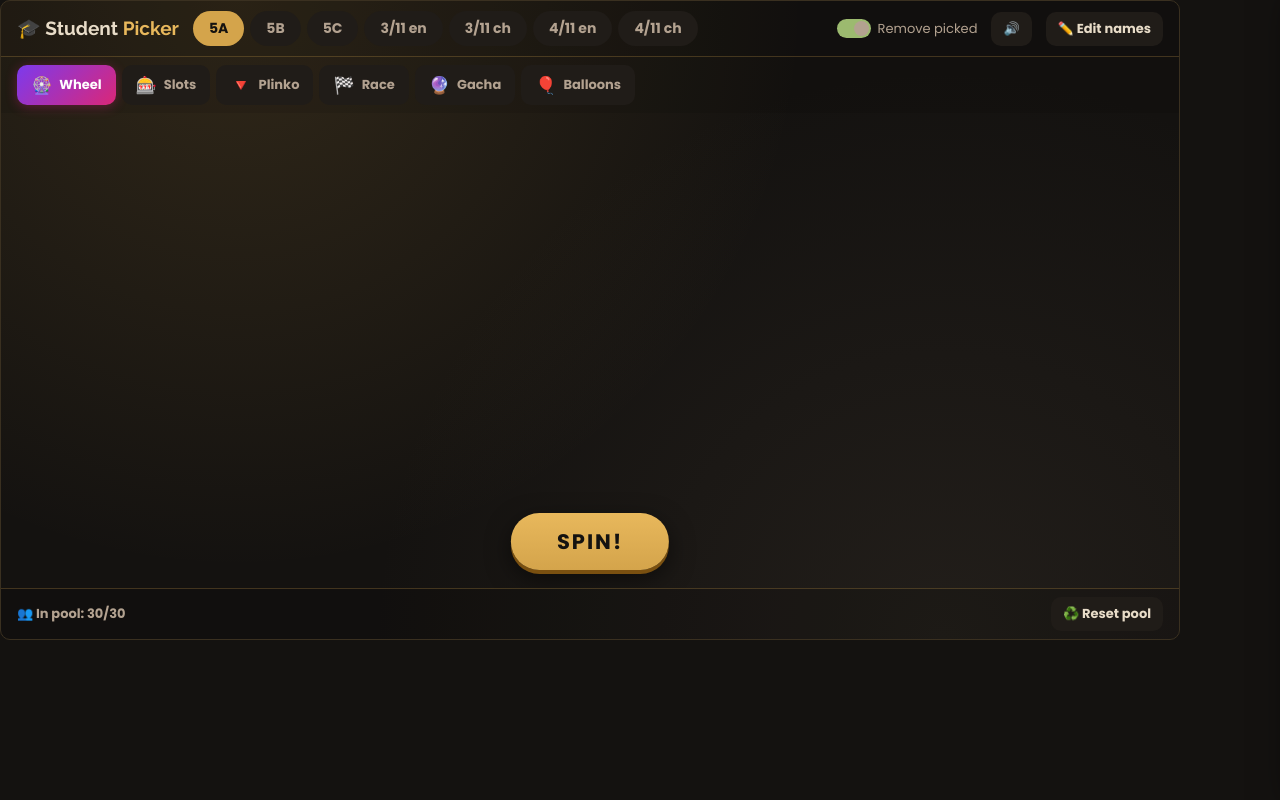
WheelOfNames › does not touch the pool when "Remove picked" is off
Step 1. Click the checkbox → (907, 29), box left=836, top=19, right=977, bottom=38
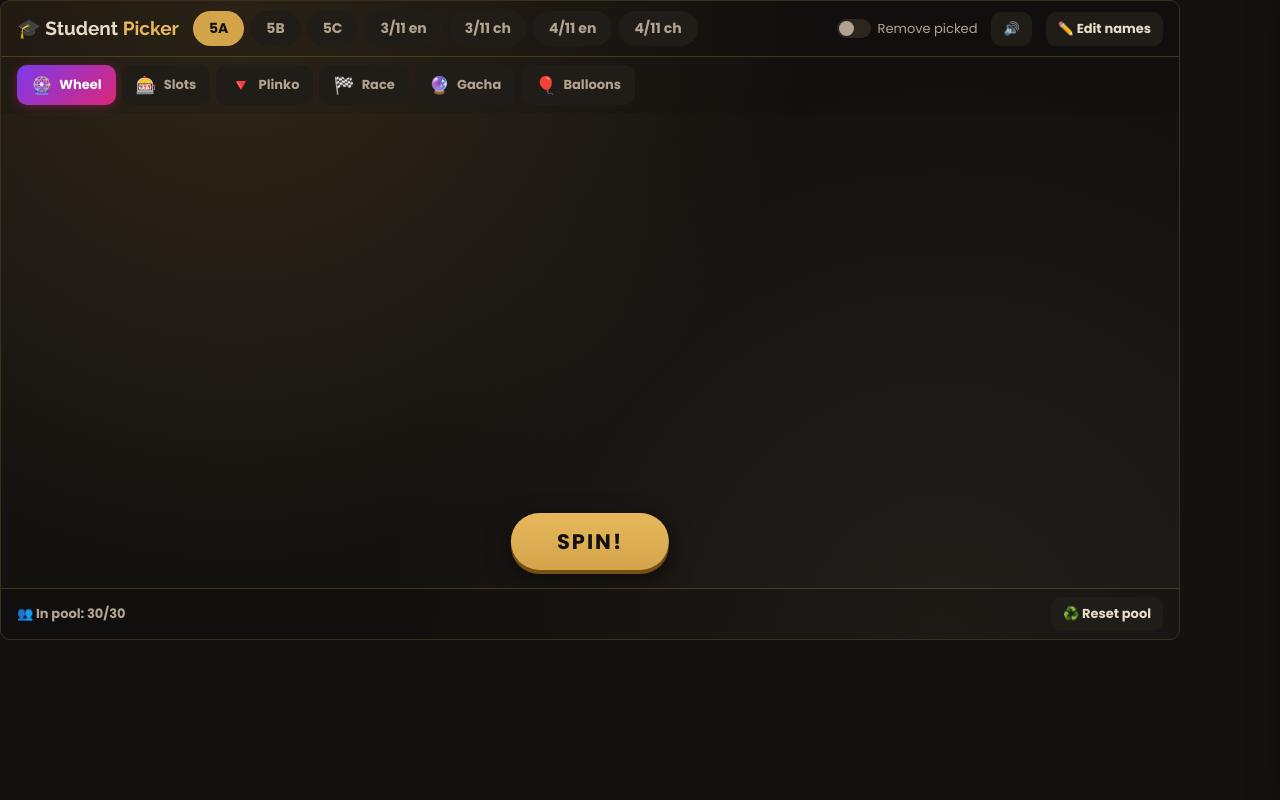
Step 2. Click the button "🔮 Gacha" → (465, 85), box left=415, top=65, right=515, bottom=105
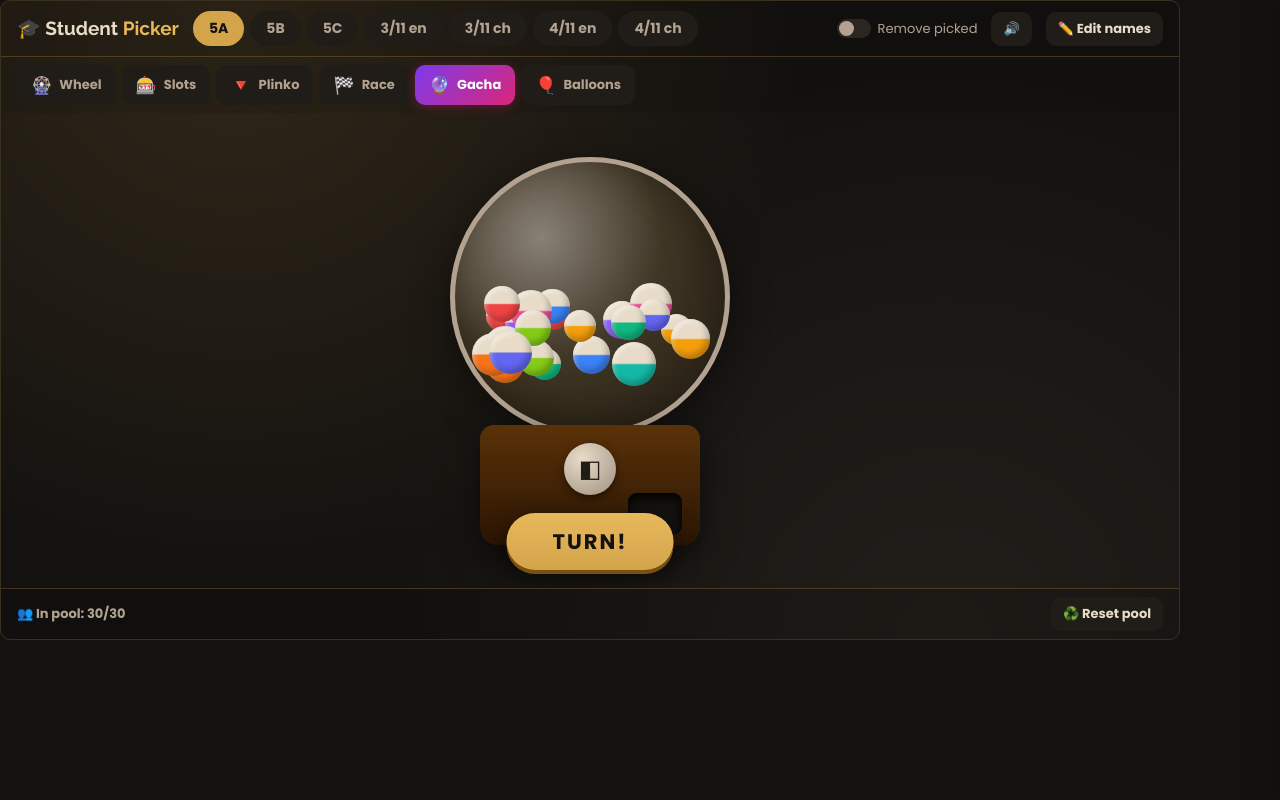
Step 3. Click the button with class "wheel-gobtn" → (590, 542), box left=506, top=513, right=673, bottom=570
Wait 4000 ms
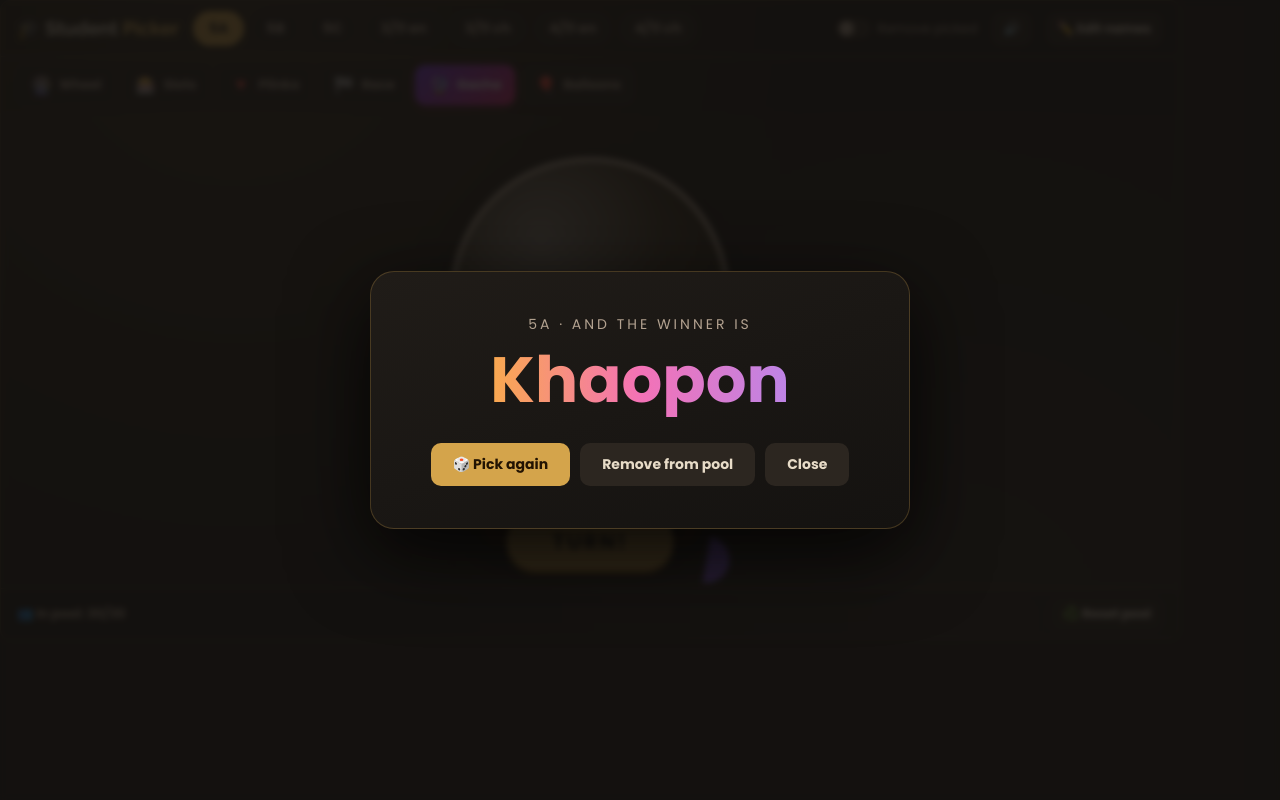
Check: the button "Remove from pool" is shown, box left=580, top=443, right=755, bottom=486
